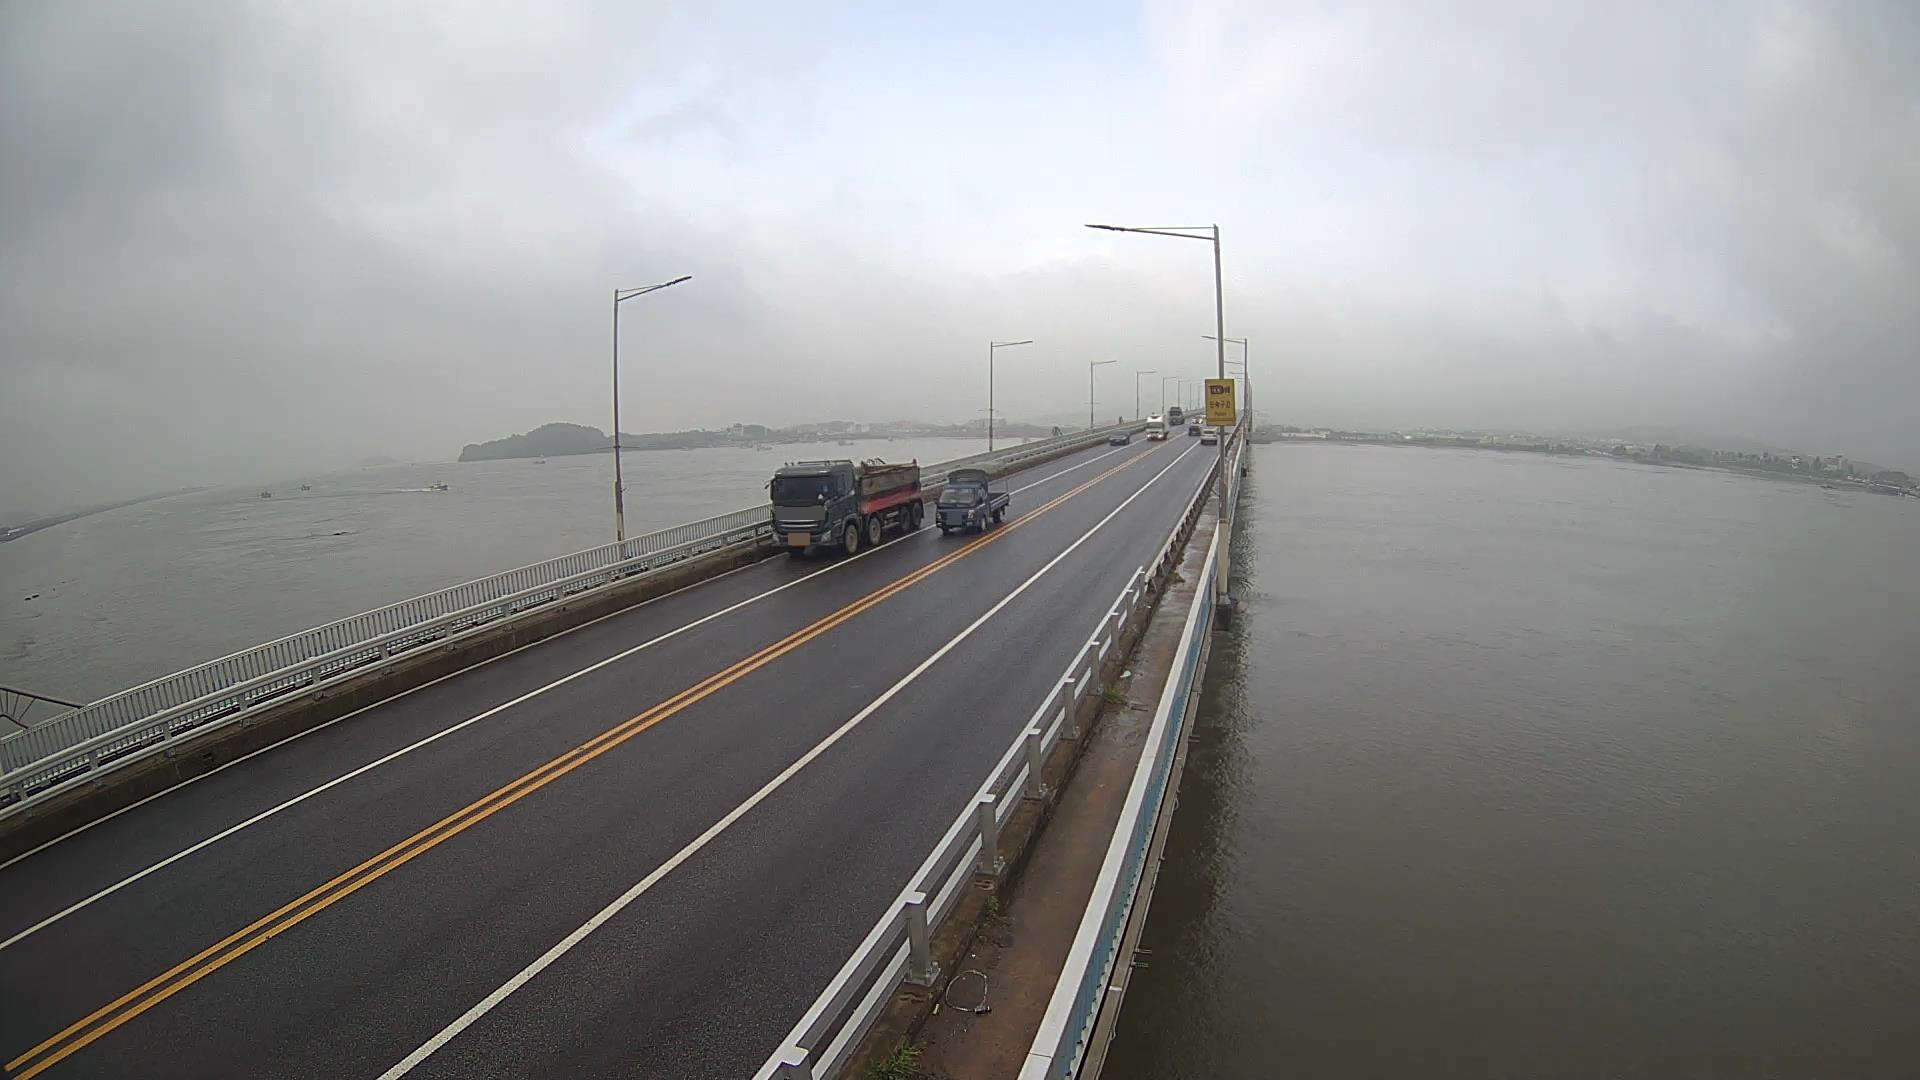정상차량: (765, 458, 926, 556)
